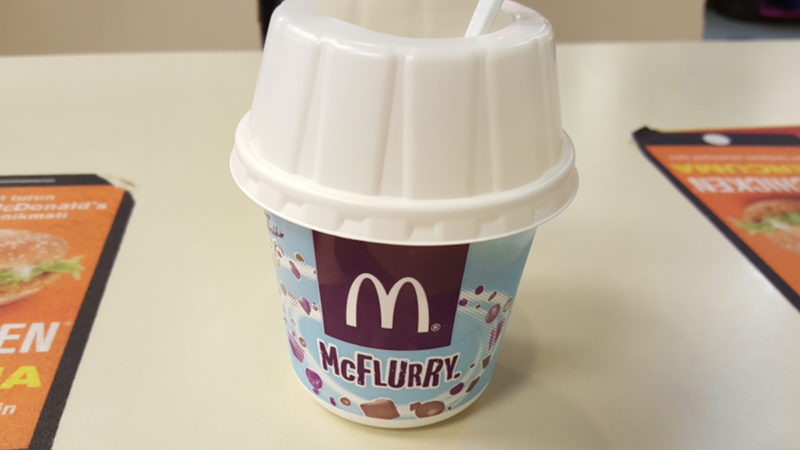mcdonalds: (341, 269, 434, 338)
